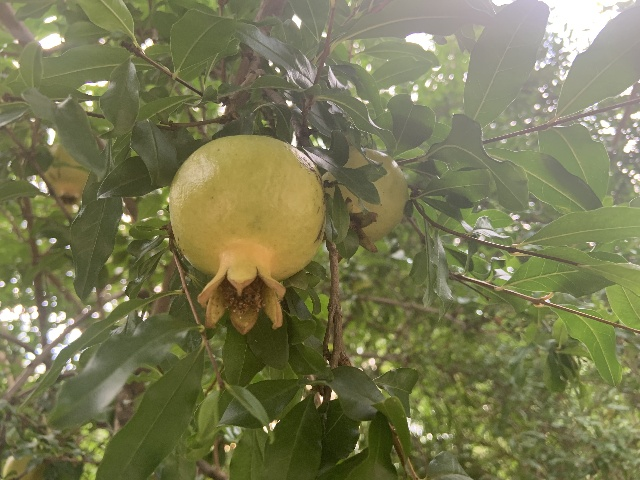mid-growth: (168, 134, 325, 334), (321, 146, 409, 263), (43, 143, 88, 214)
